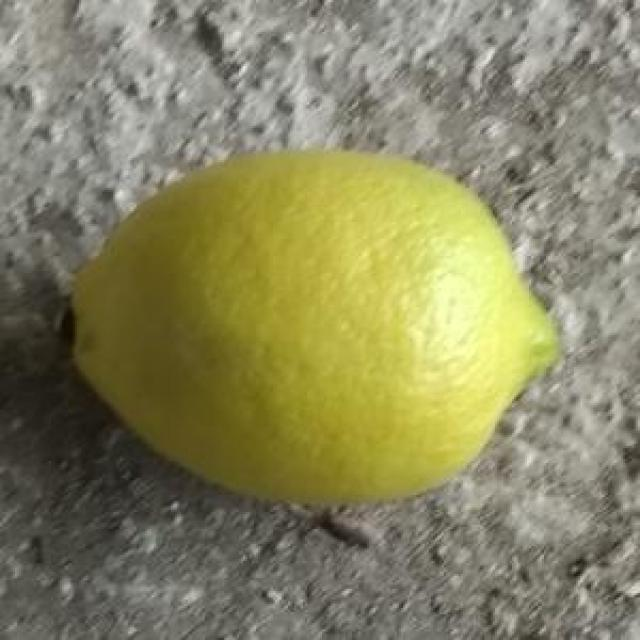lemon: (62, 147, 561, 508)
